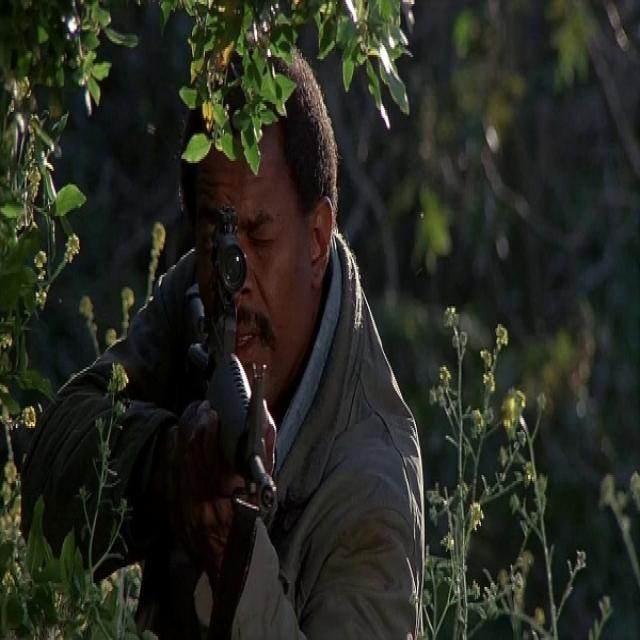rifle: (169, 210, 281, 525)
